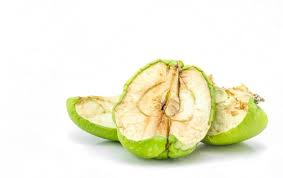damaged_apple: (114, 62, 213, 158), (202, 59, 269, 151)
